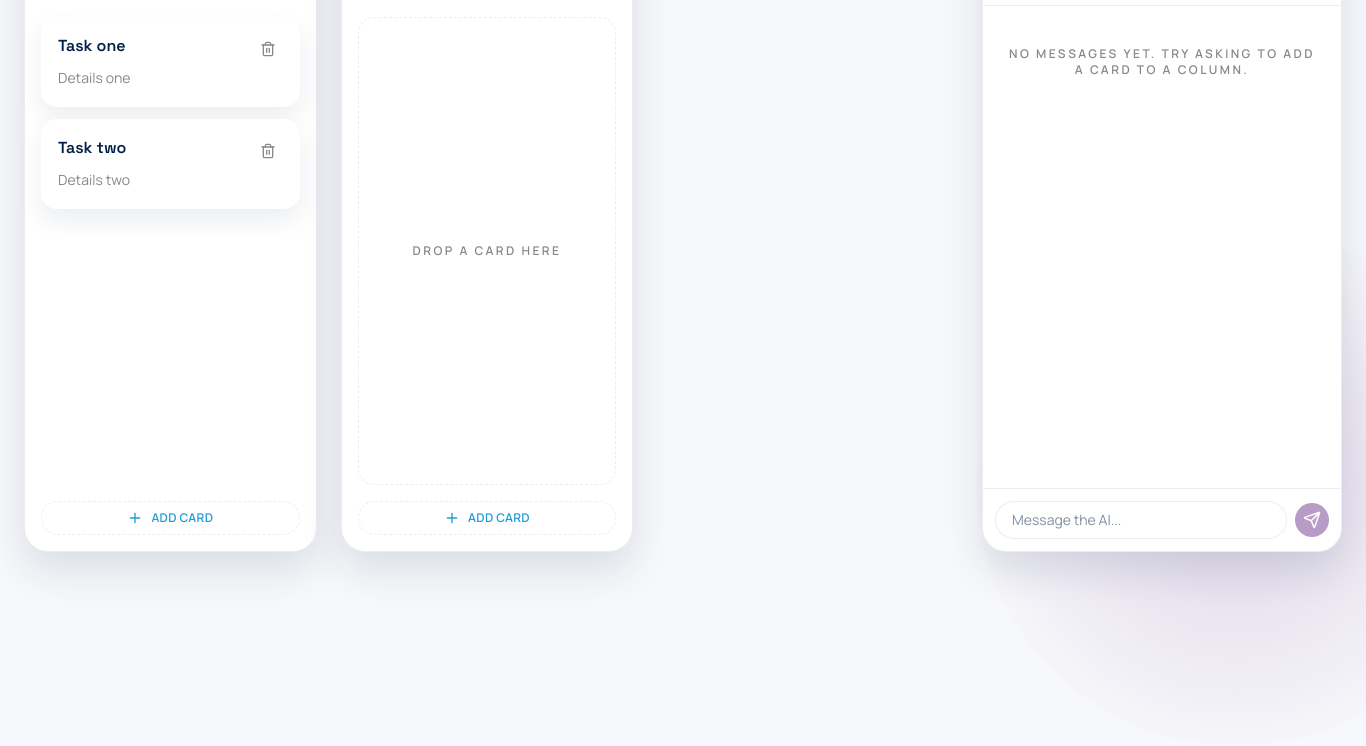
KanbanBoard › adds a card and persists
(page scrolled)
# Click the "Add card" button (closed form button) to open the form
Click the button "Add card" below "Drop a card here".
click(487, 518)  # box [358,501,616,535]
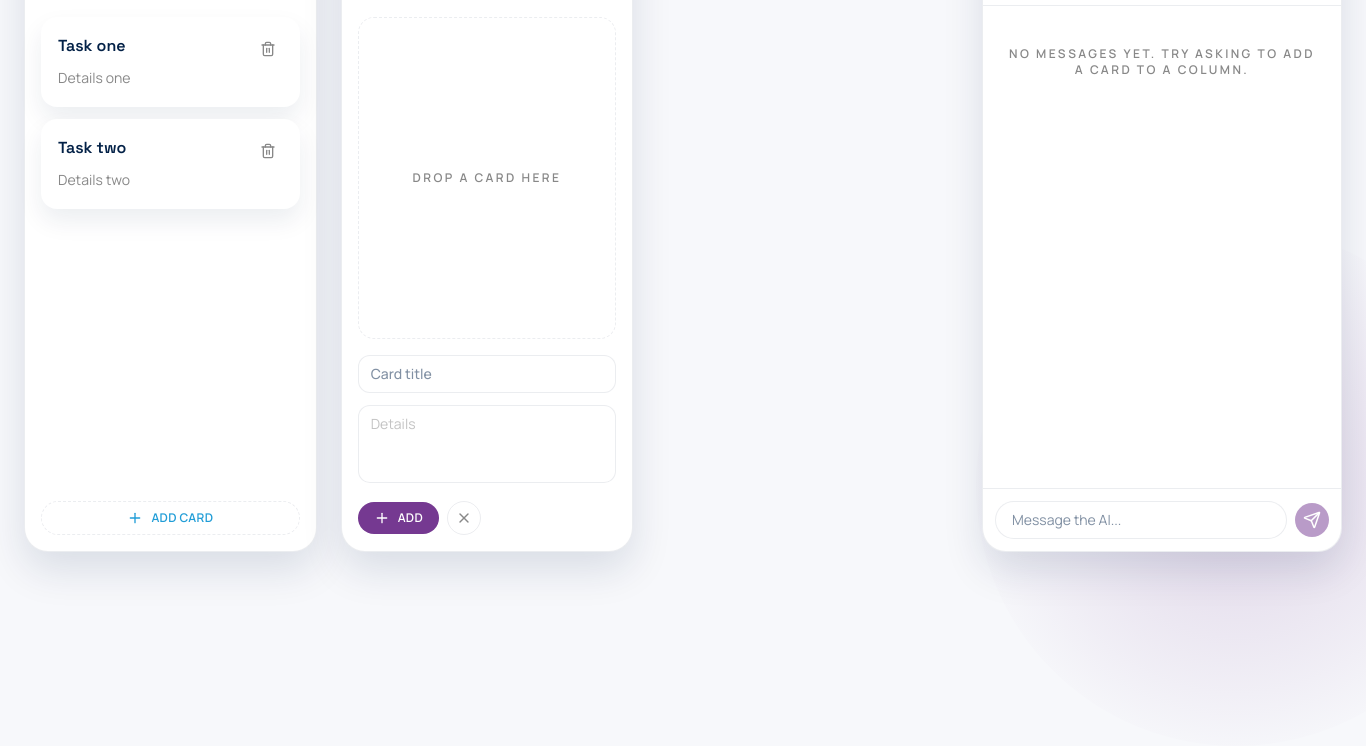
Type "New card" into the field with placeholder "Card title".
click(487, 374); type("New card")  # box [358,355,616,393]
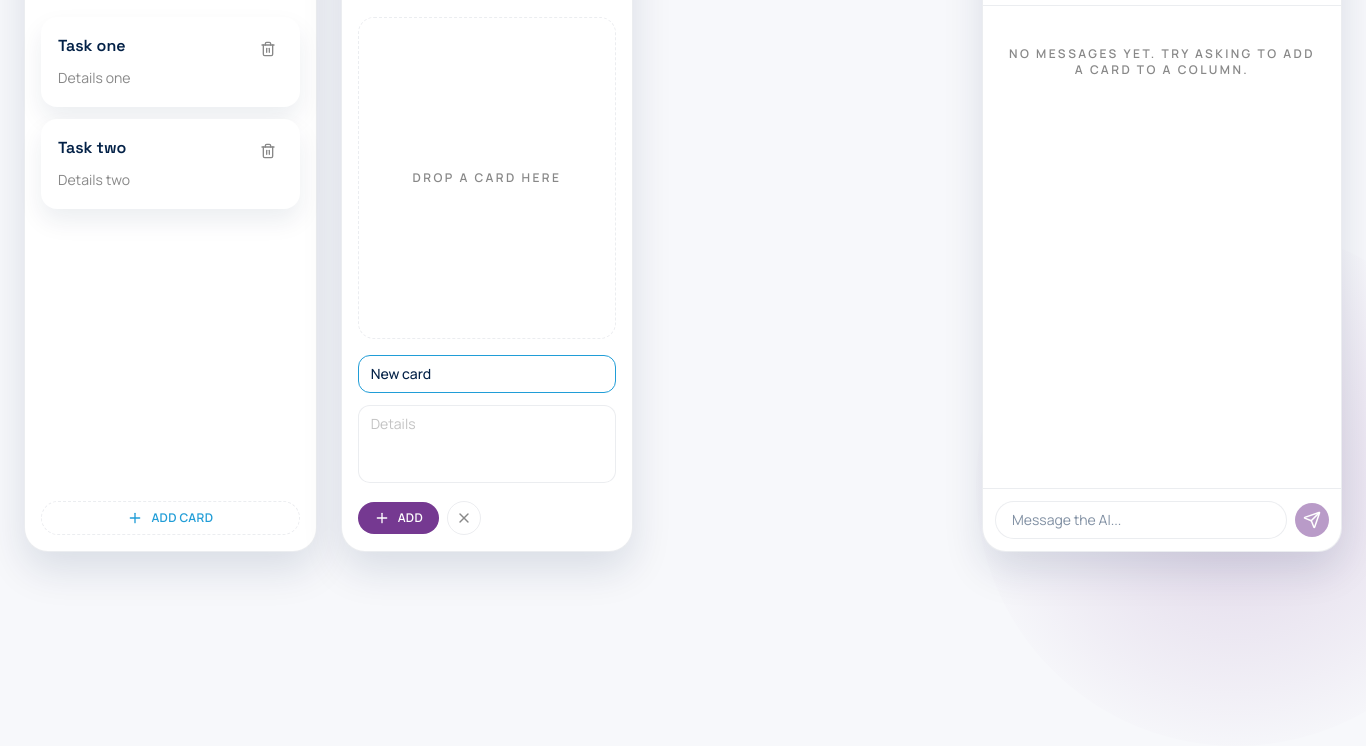
Type "Notes" into the text box with placeholder "Details".
click(487, 444); type("Notes")  # box [358,405,616,483]
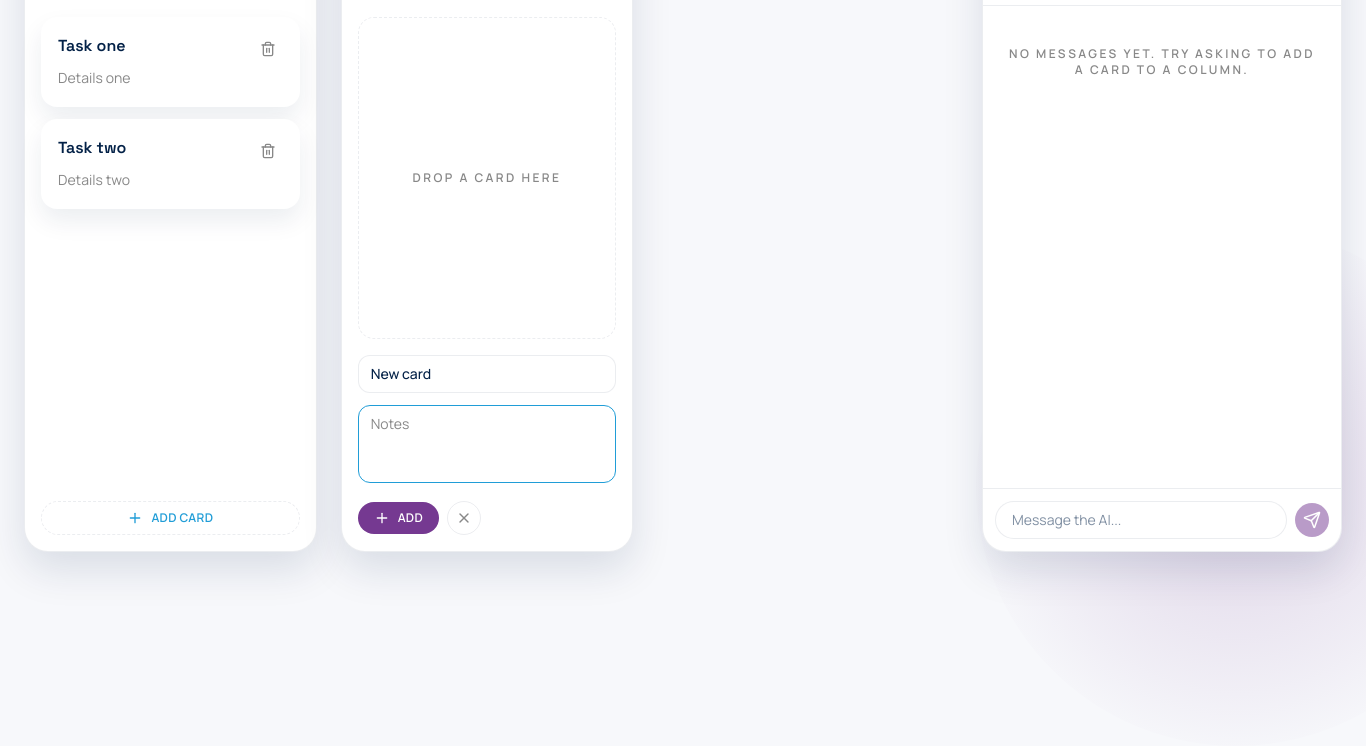
Click the button "Add".
click(398, 518)  # box [358,502,439,534]
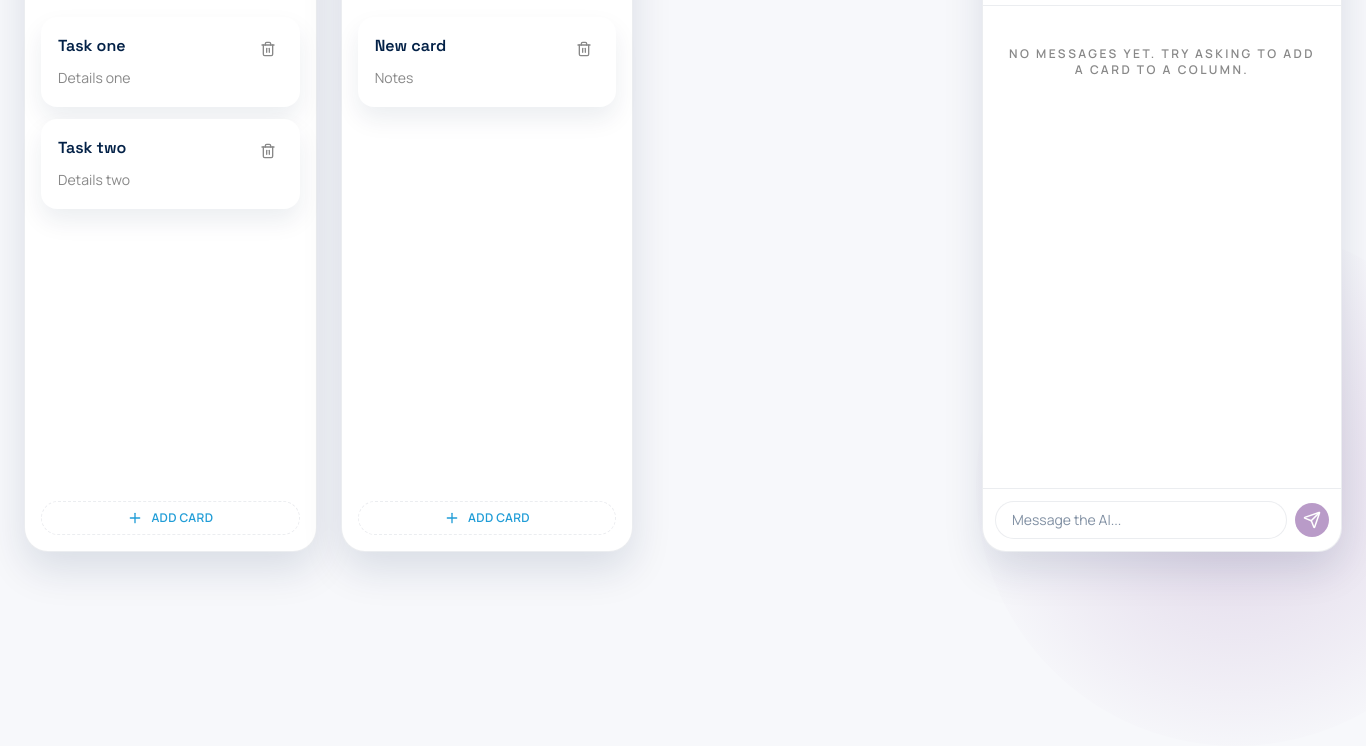
Expected: the heading "New card" is shown, [375,34,446,58]
